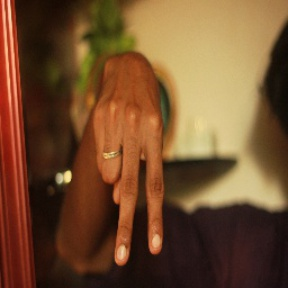Y: (80, 84, 169, 268)
